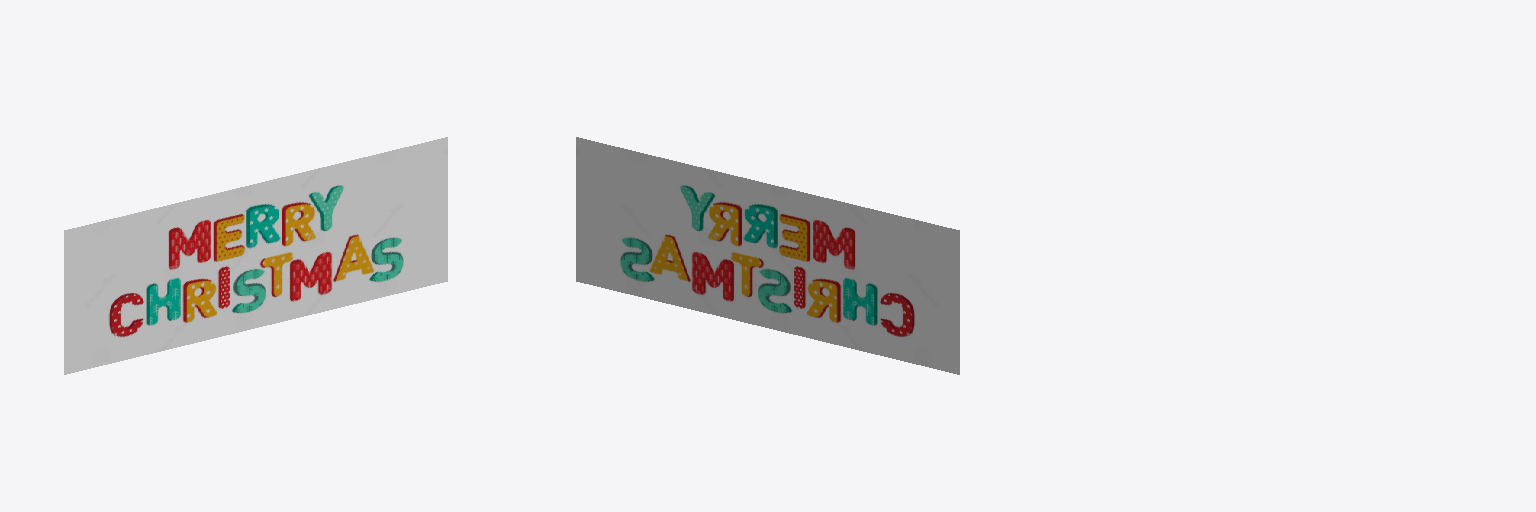
3 renders of one model, left to right at view 1: azimuth 30°, elevation 25°; view 2: azimuth 150°, elevation 25°; view 3: azimuth 270°, elevation 25°, orthographic.
Visible parts, largest first — view 1: Plane; view 2: Plane; view 3: none.
Boxes of the visible parts, x1,y1,x2,y2 form: Plane: [64, 137, 447, 374]; Plane: [576, 137, 959, 374].
Size of the model in its own units: 2.46 by 0.8838 by 0.
Materials: 1 (1 with a texture image).